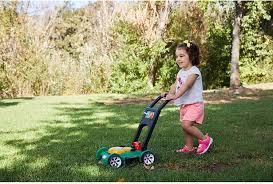child: (156, 39, 220, 158)
